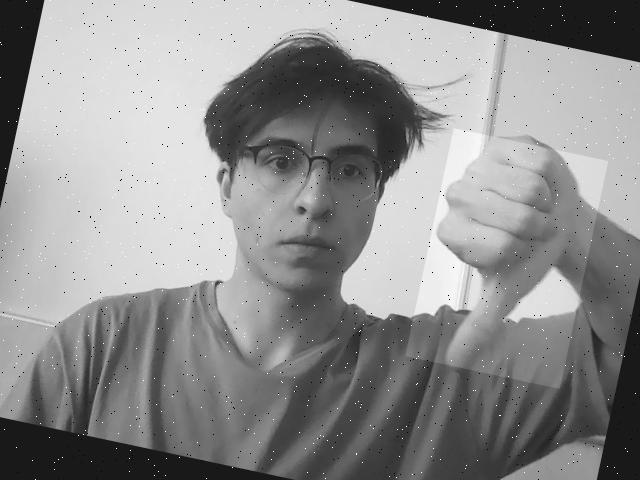bad: (430, 143, 594, 369)
